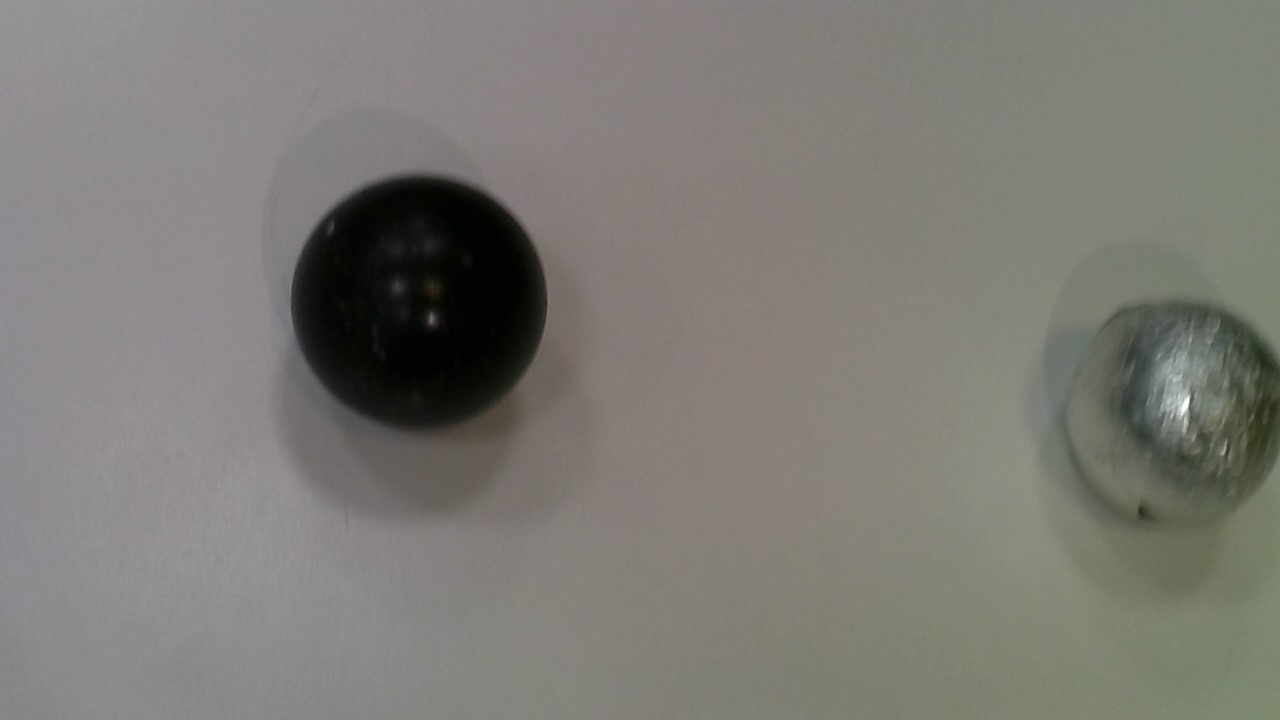black_ball: (277, 171, 562, 442)
silver_ball: (1036, 286, 1280, 539)
